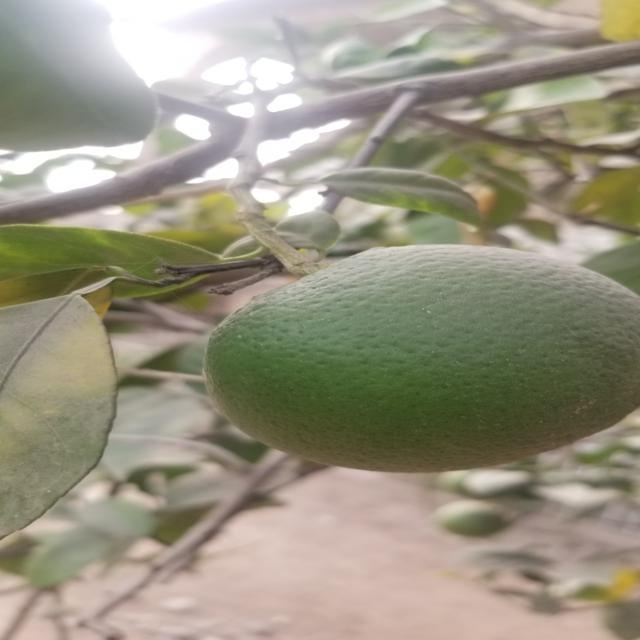agrume: (202, 246, 637, 473)
